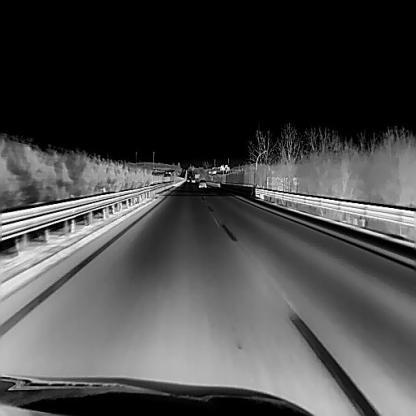car: (198, 177, 206, 188)
